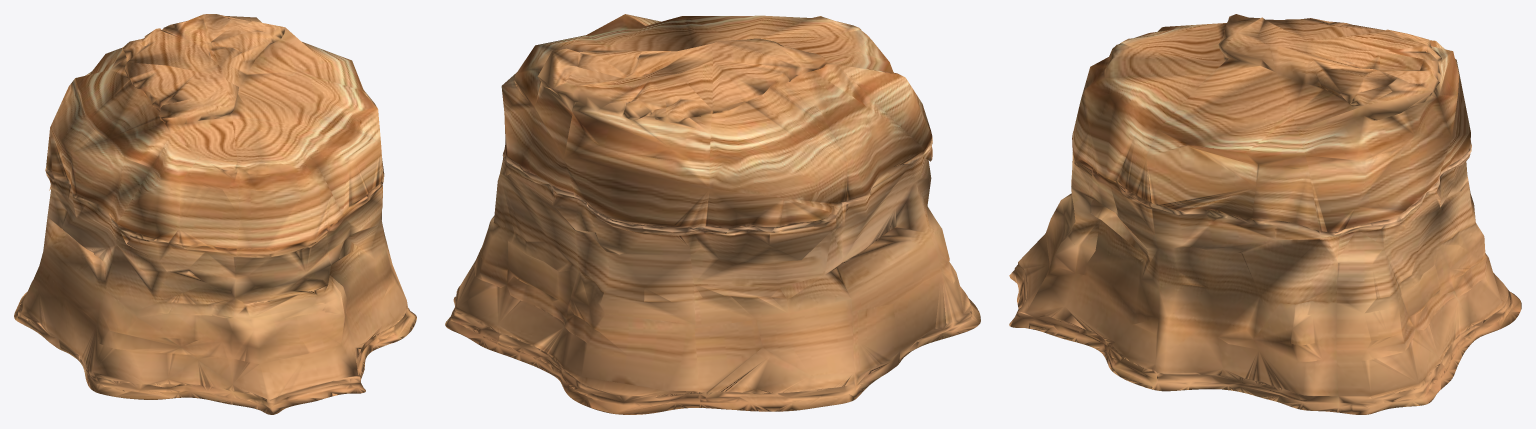
The model's file is rock_sand.glb.
3 renders of one model, left to right at view 1: azimuth 30°, elevation 25°; view 2: azimuth 150°, elevation 25°; view 3: azimuth 270°, elevation 25°, orthographic. The views are drawn at different scales.
Bounding box in the file's own units: 1.76 × 1.1 × 1.9.
1 material, 1 textured.
